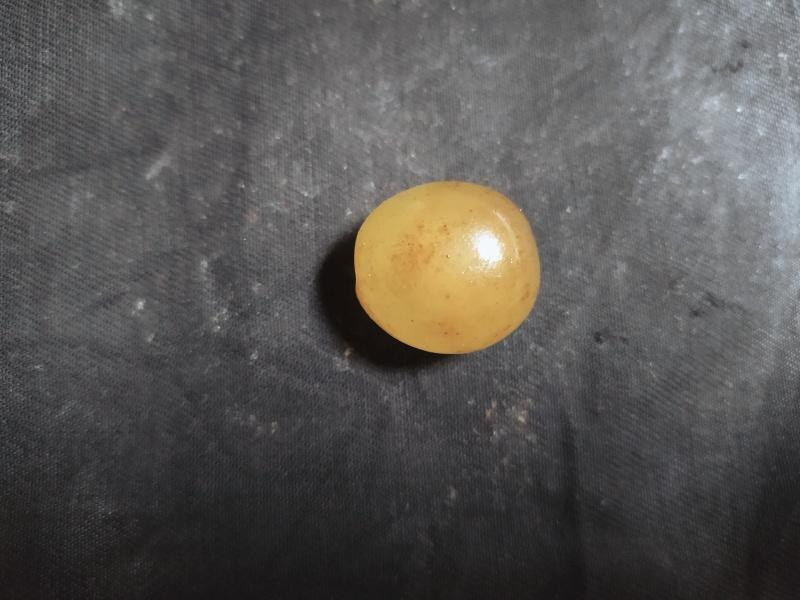Grape Rotten: (352, 177, 541, 357)
